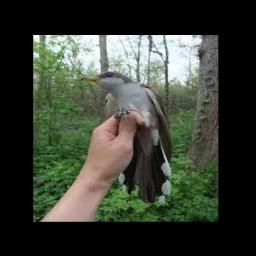Cuckoo: (80, 71, 172, 203)
